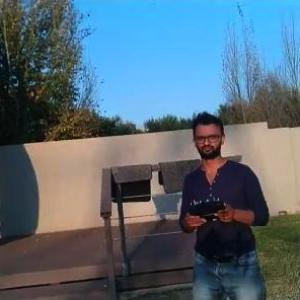follow: (177, 104, 280, 299)
